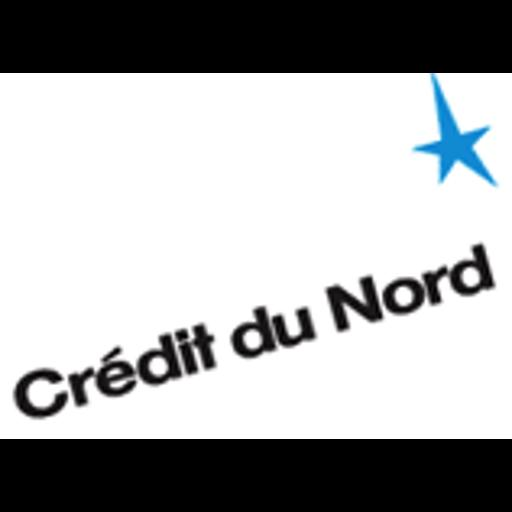Credit du Nord: (0, 73, 512, 439)
